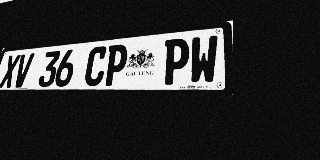3: (37, 50, 61, 87)
6: (53, 49, 78, 87)
C: (83, 46, 109, 86)
P: (161, 38, 190, 85), (102, 44, 129, 86)
V: (12, 53, 35, 88)
W: (188, 35, 218, 84)
X: (0, 54, 21, 88)
